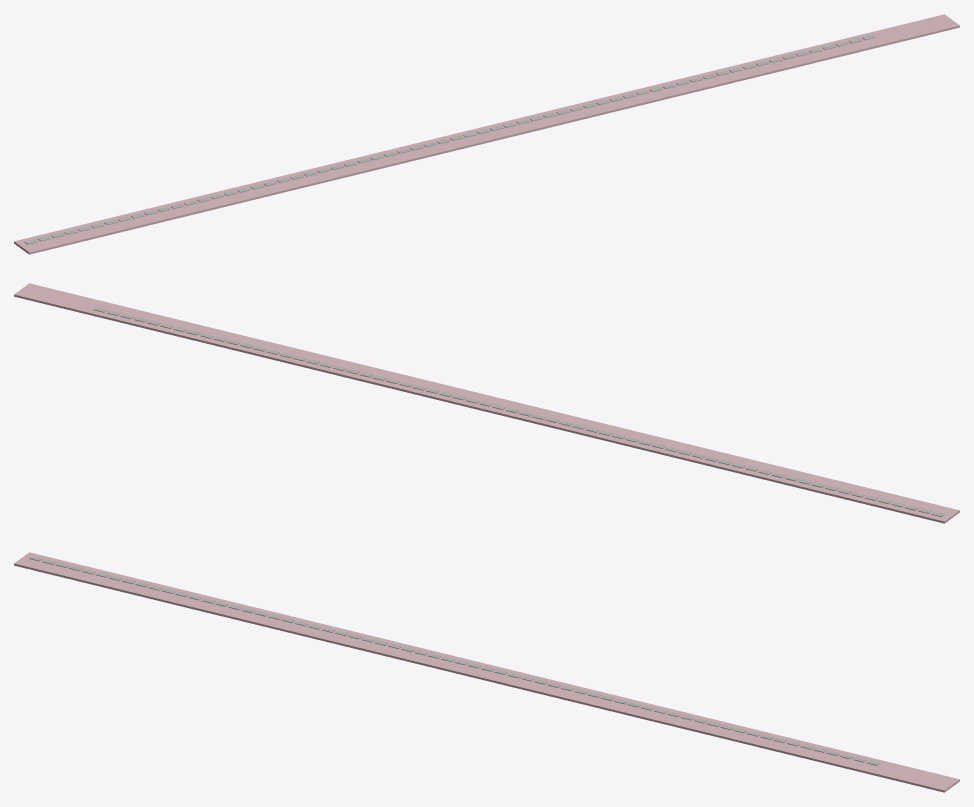
Rendered from board.glb.
3 views of the same model, one above another, from view 1: azimuth 30°, elevation 25°; view 2: azimuth 150°, elevation 25°; view 3: azimuth 330°, elevation 25° (orthographic).
Visible parts, largest first — view 1: Substrate_Layer_0_Z0; view 2: Substrate_Layer_0_Z0; view 3: Substrate_Layer_0_Z0.
Part boxes in pixels (left/top/right/bottom): Substrate_Layer_0_Z0: left=14, top=14, right=959, bottom=254; Substrate_Layer_0_Z0: left=14, top=283, right=959, bottom=523; Substrate_Layer_0_Z0: left=14, top=552, right=959, bottom=792.
Size of the model in its own units: 0.7 by 0.002 by 0.02.
